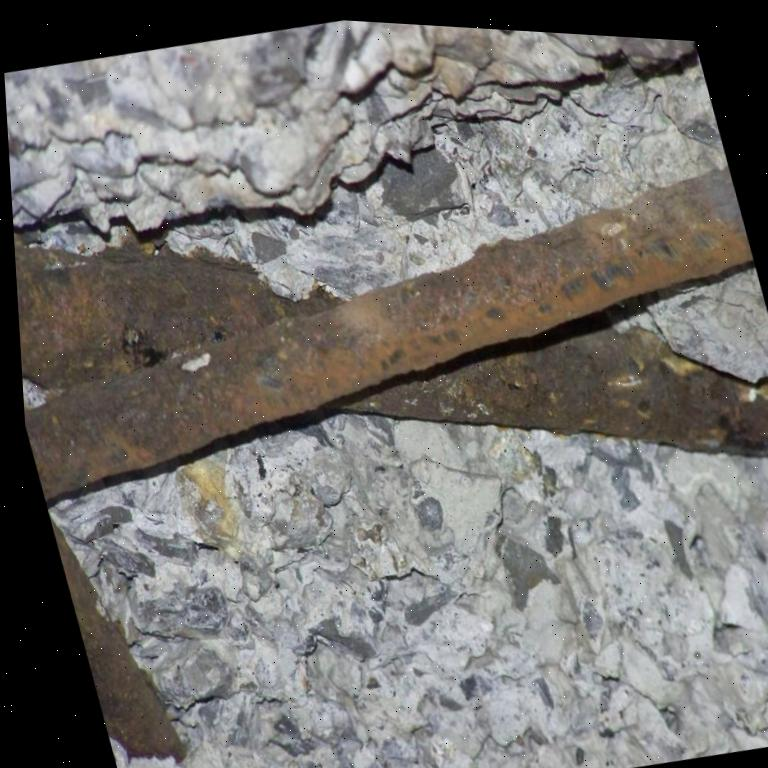exposed_rebar: (15, 168, 768, 503), (52, 522, 179, 755)
spalling: (4, 20, 768, 768)
